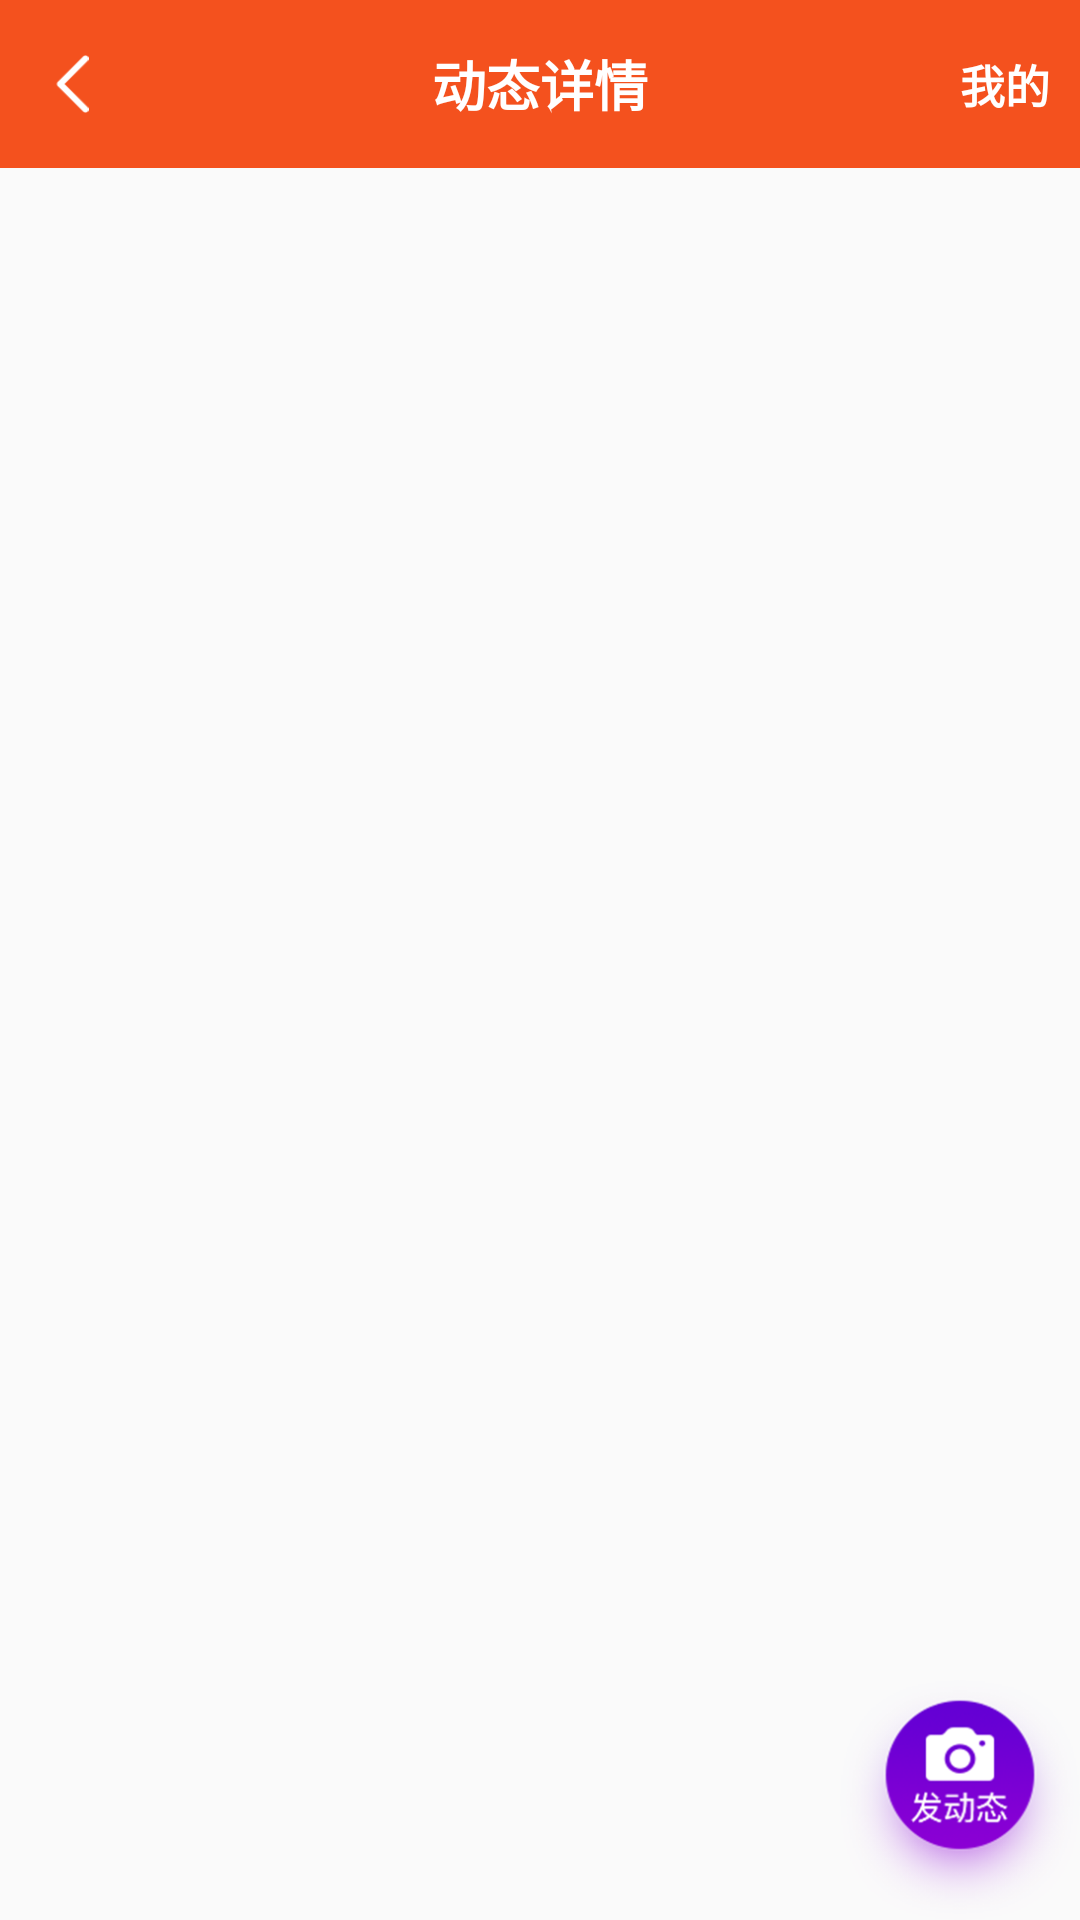

Screen size 1080 x 1920. Icon name, then its center in pixels as (x,y):
fanhui: (72,84)
